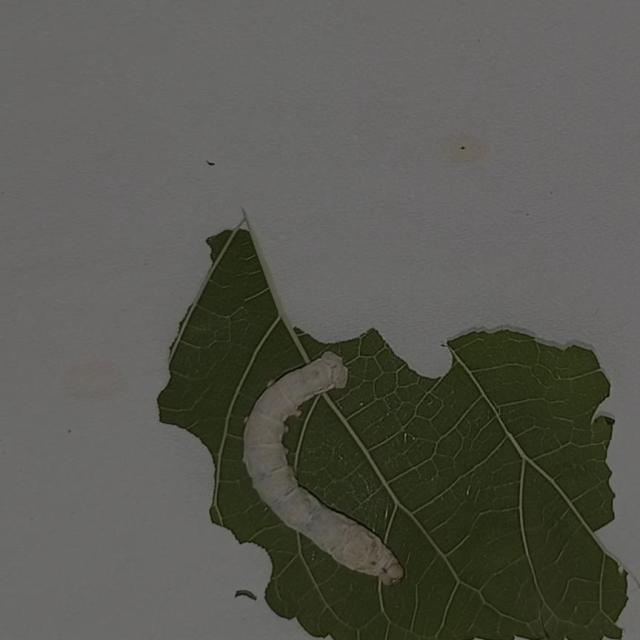Healthy: (231, 328, 417, 598)
